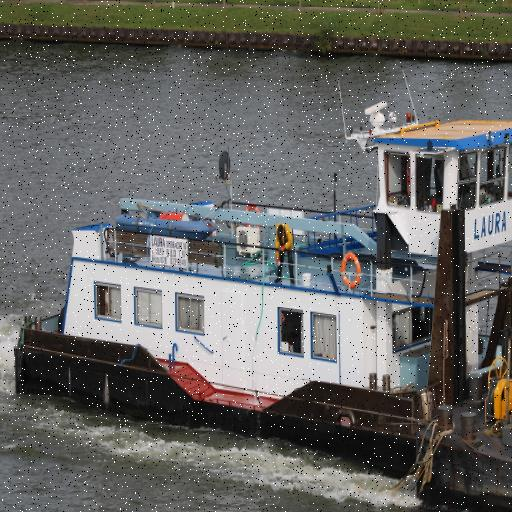tugboat: (12, 103, 512, 485)
